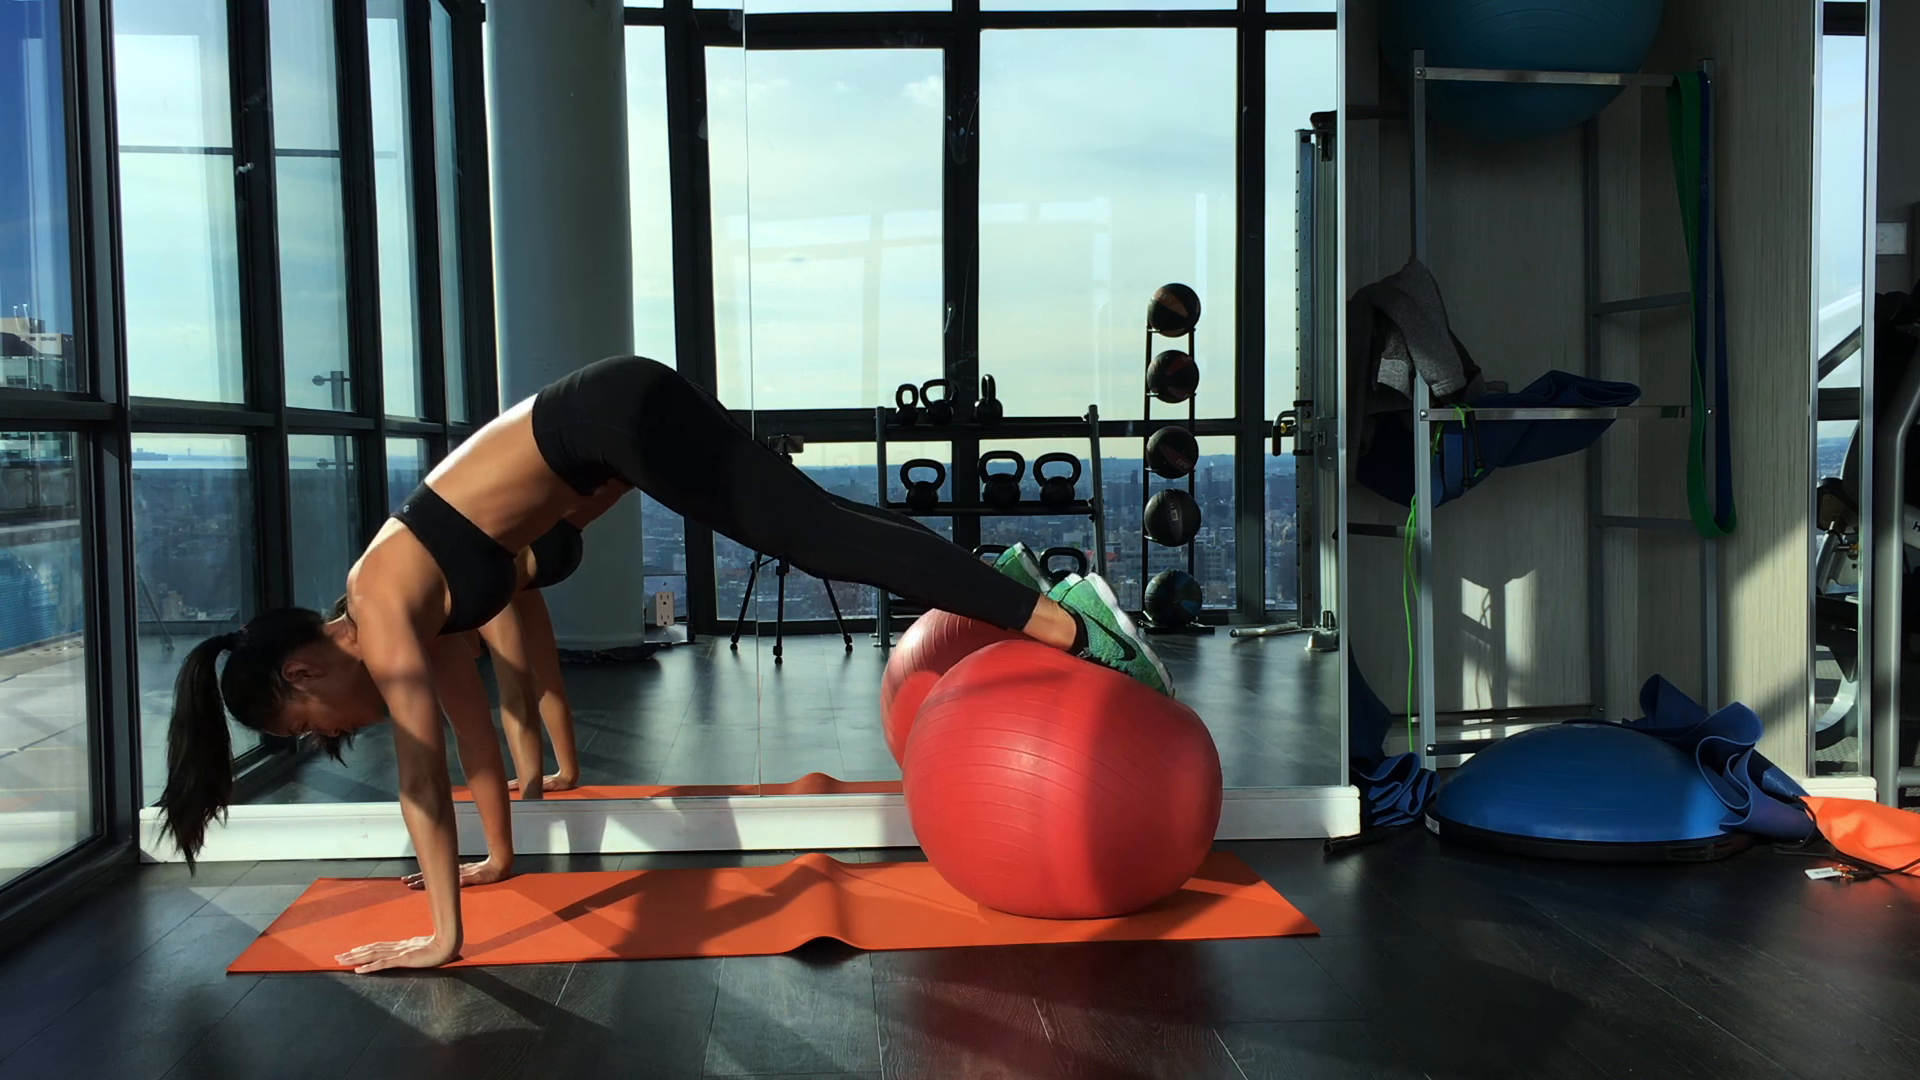yogaball: (895, 630, 1236, 930)
